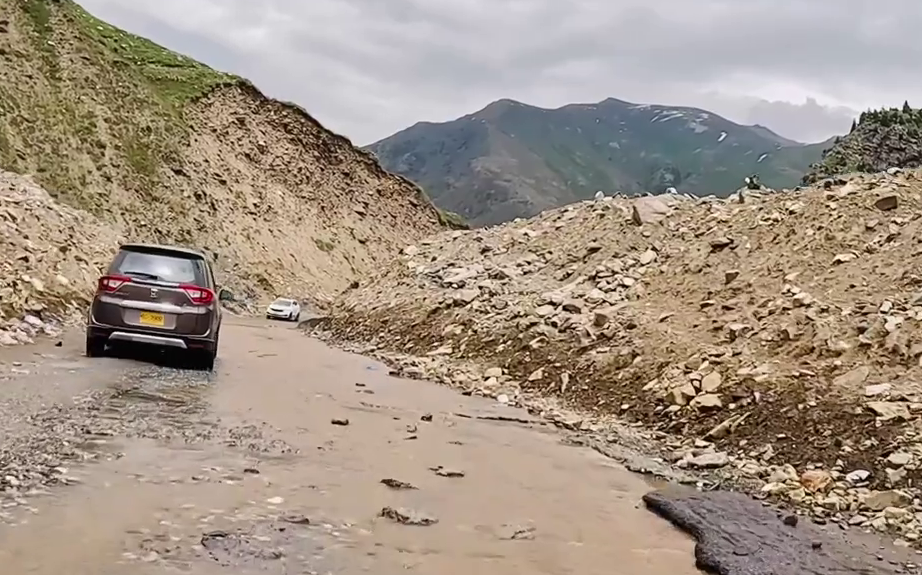unexpected: (272, 251, 733, 459)
